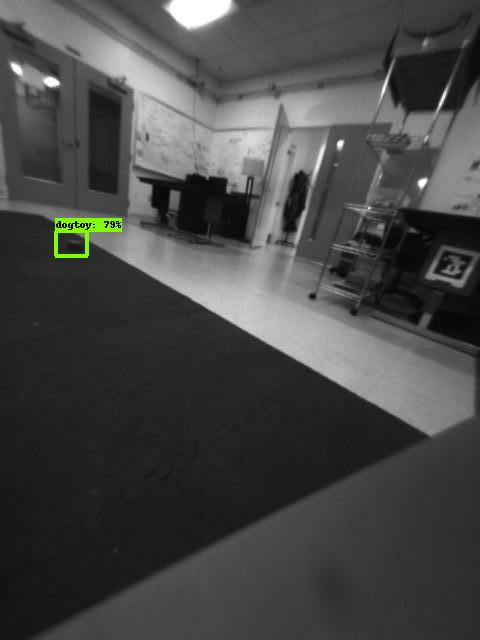dogtoy: (59, 232, 91, 252)
